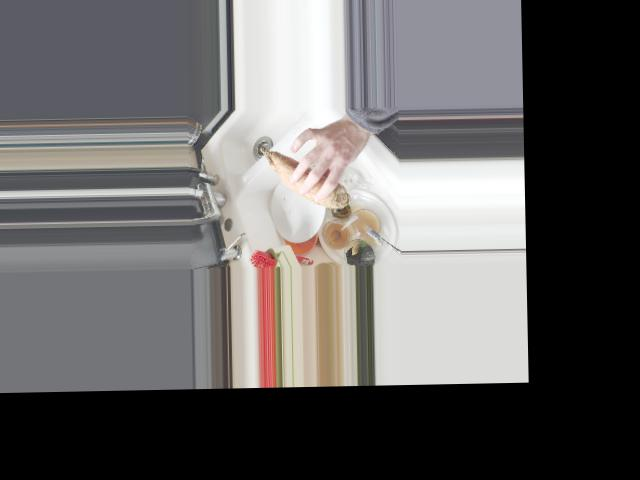sweet_potato: (259, 145, 348, 210)
